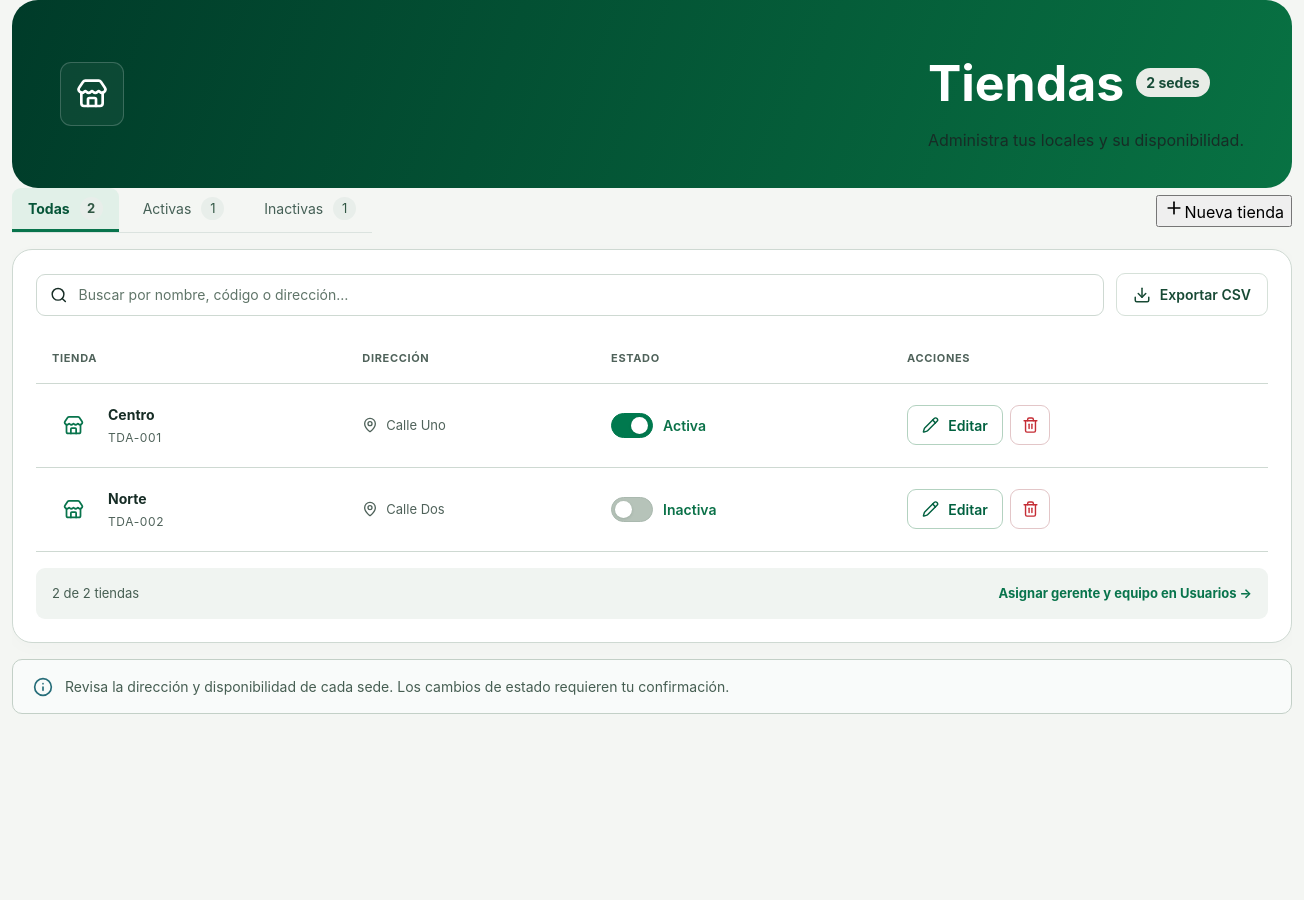
Scenario: store reference layout › filters real store rows by status and search
expect the text "Centro" is shown: met, box [108, 406, 154, 422]
Click the button "Inactivas 1" at {"x": 310, "y": 210}, box [248, 188, 372, 232]
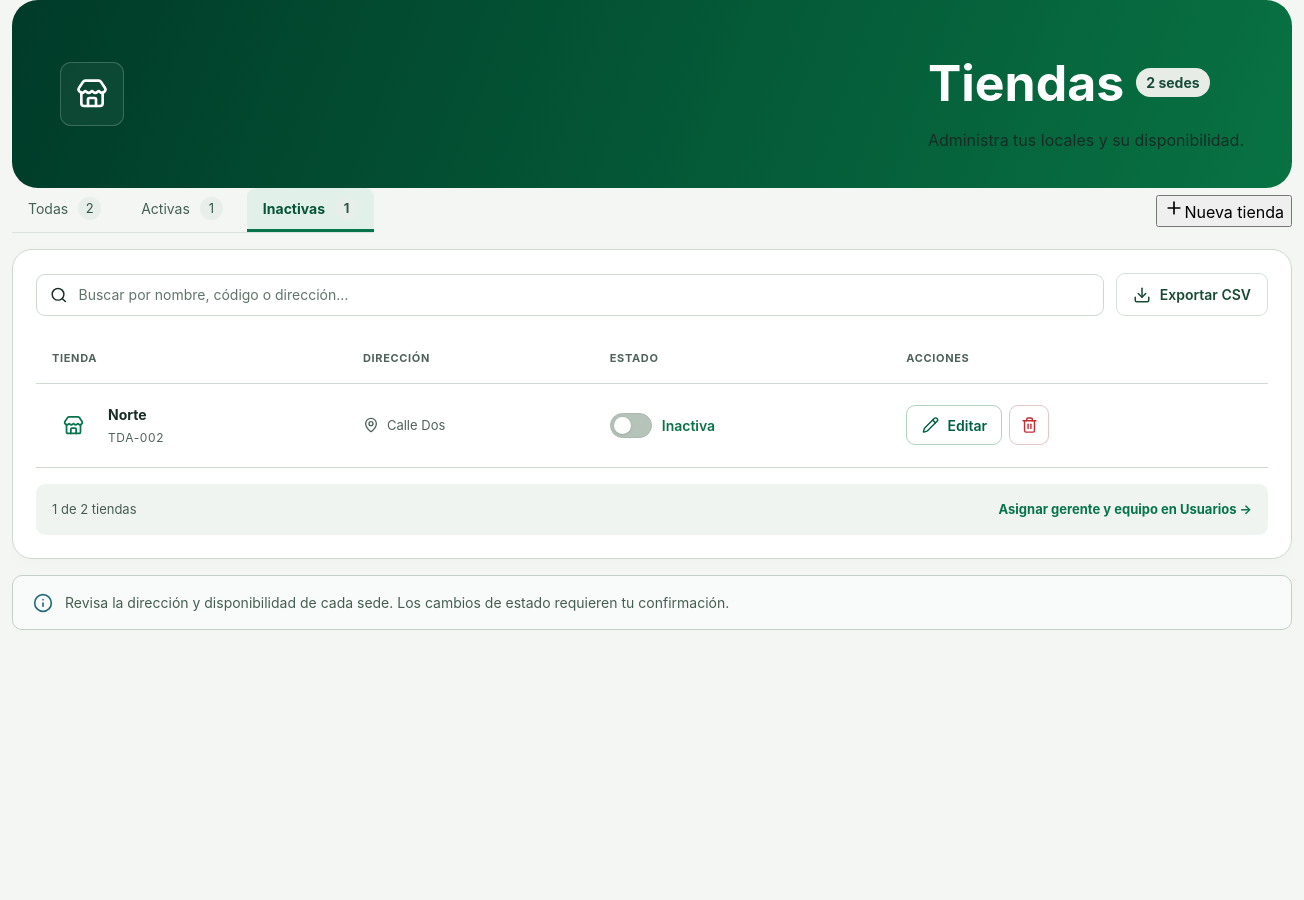
expect the text "Norte" is shown: met, box [108, 406, 147, 422]
expect the text "Centro" is gone: met
Click the button "Todas 2" at {"x": 65, "y": 210}, box [12, 188, 117, 232]
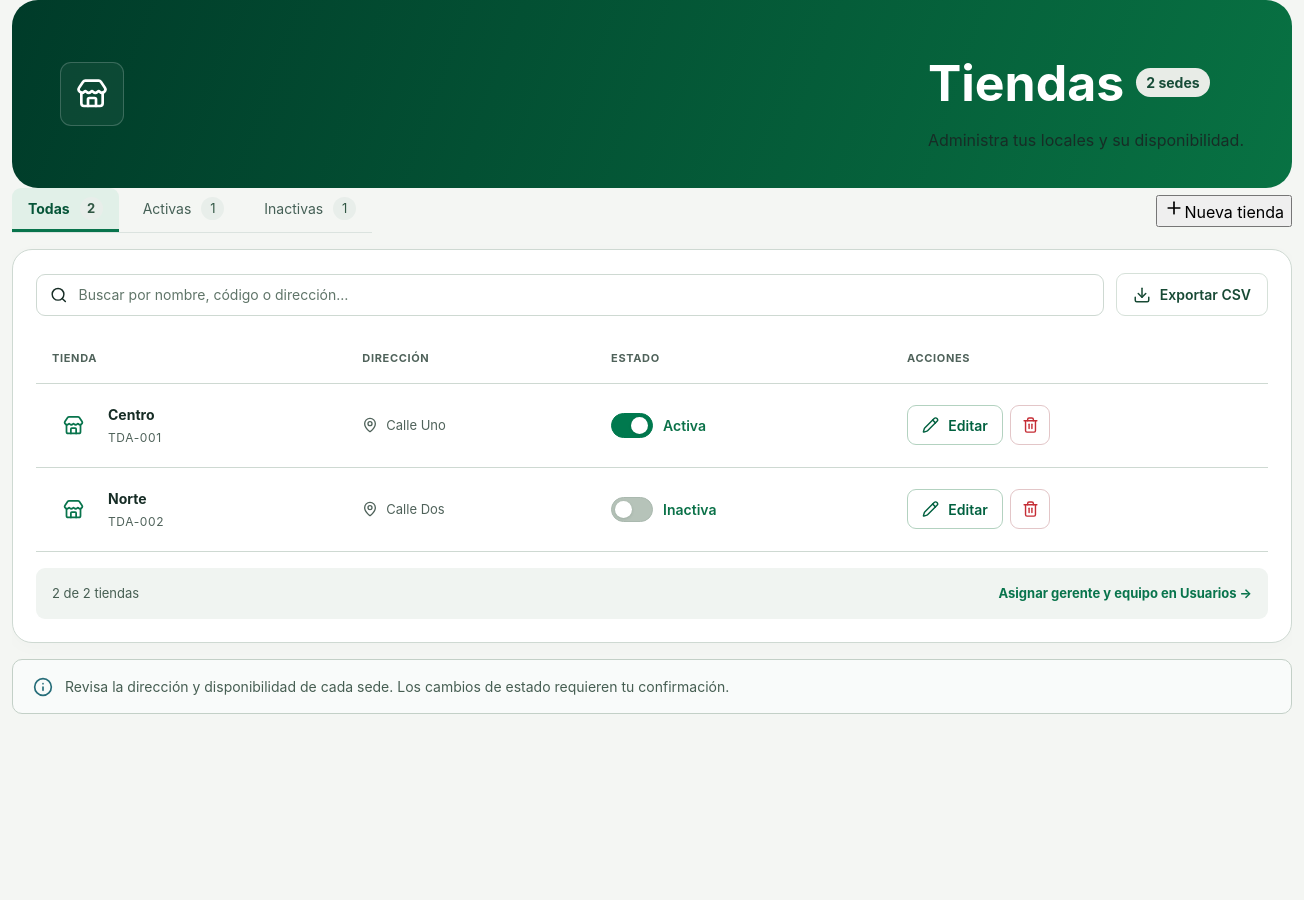
Type "Calle Uno" into the field named "Buscar tiendas" at {"x": 583, "y": 294}, box [76, 274, 1090, 314]
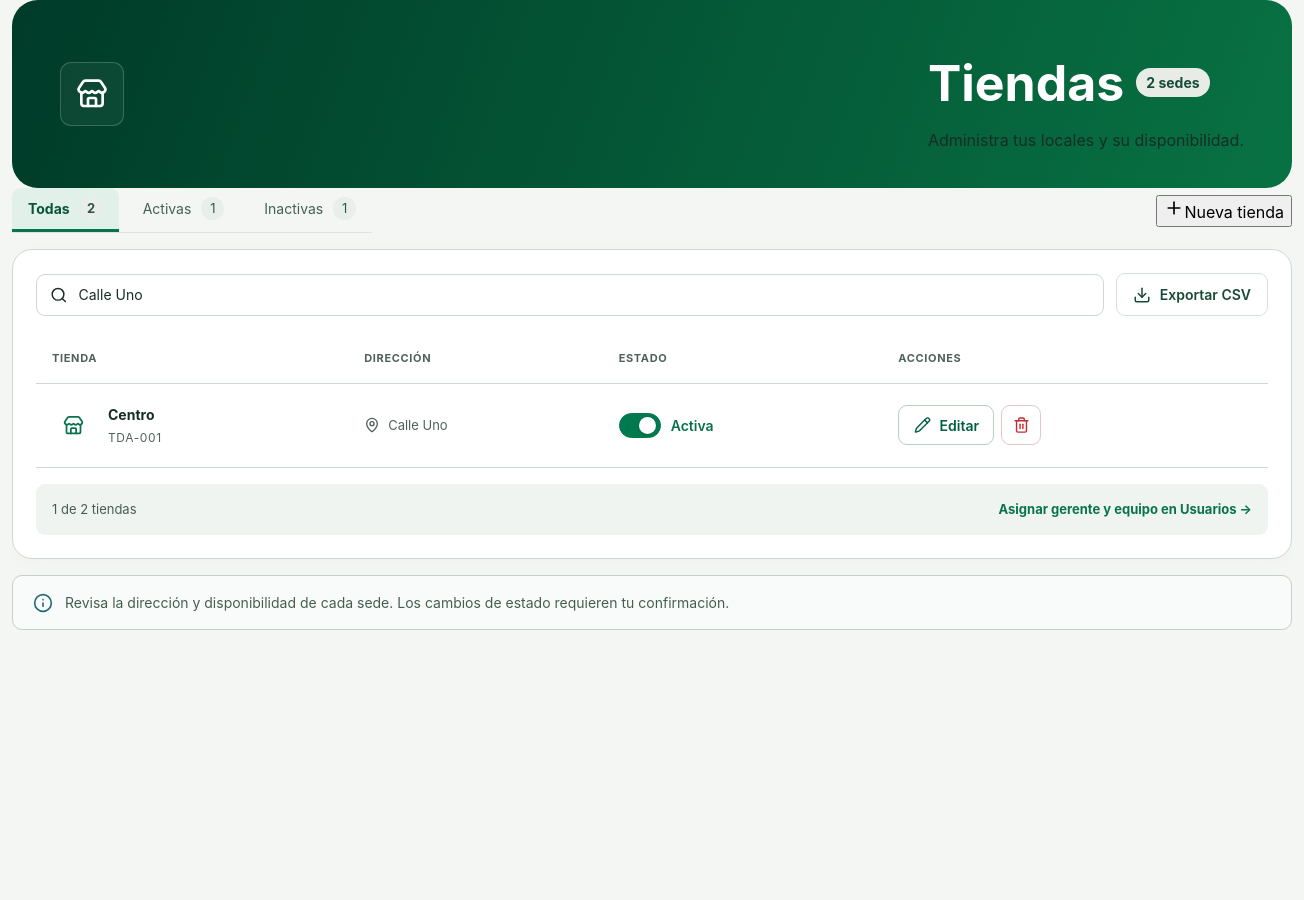
expect the text "Centro" is shown: met, box [108, 406, 154, 422]
expect the text "Norte" is gone: met
